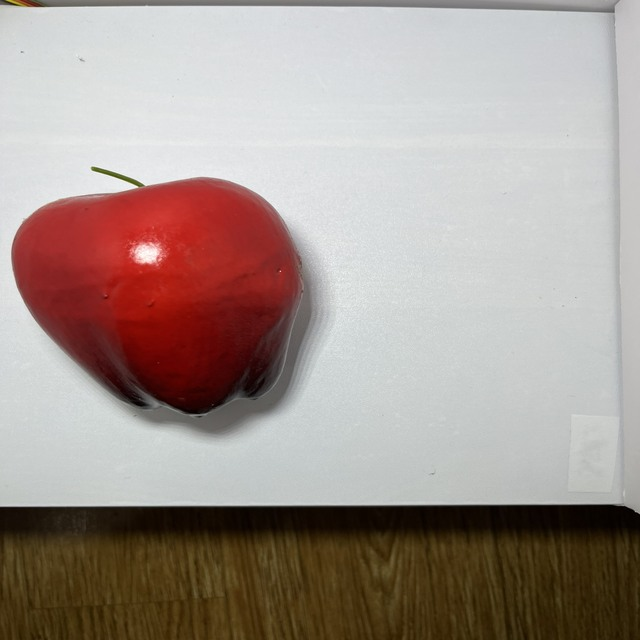Tao: (0, 171, 307, 429)
